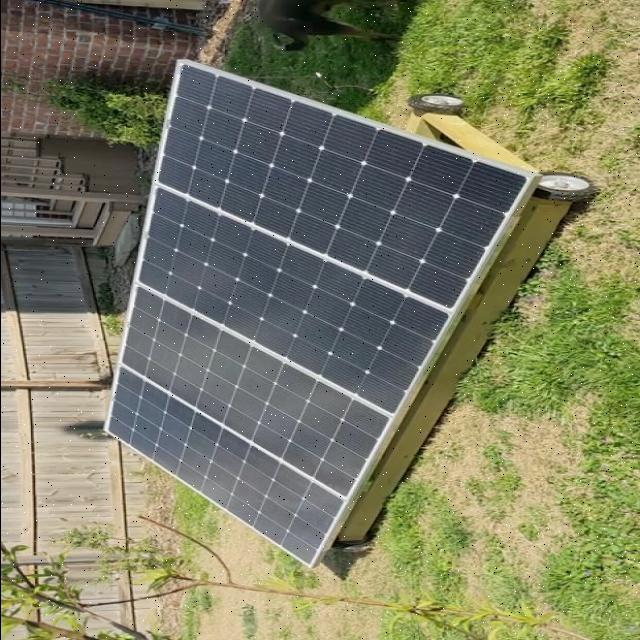Normal Solar Panel: (104, 61, 534, 567)
